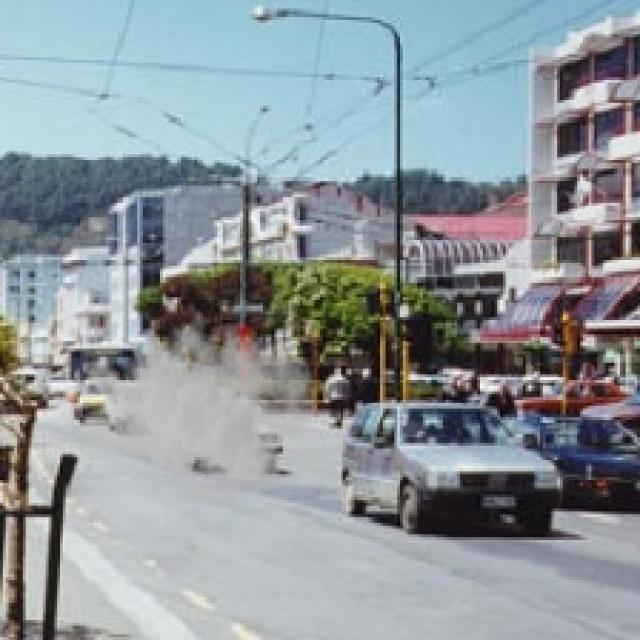smoke: (72, 300, 317, 511)
